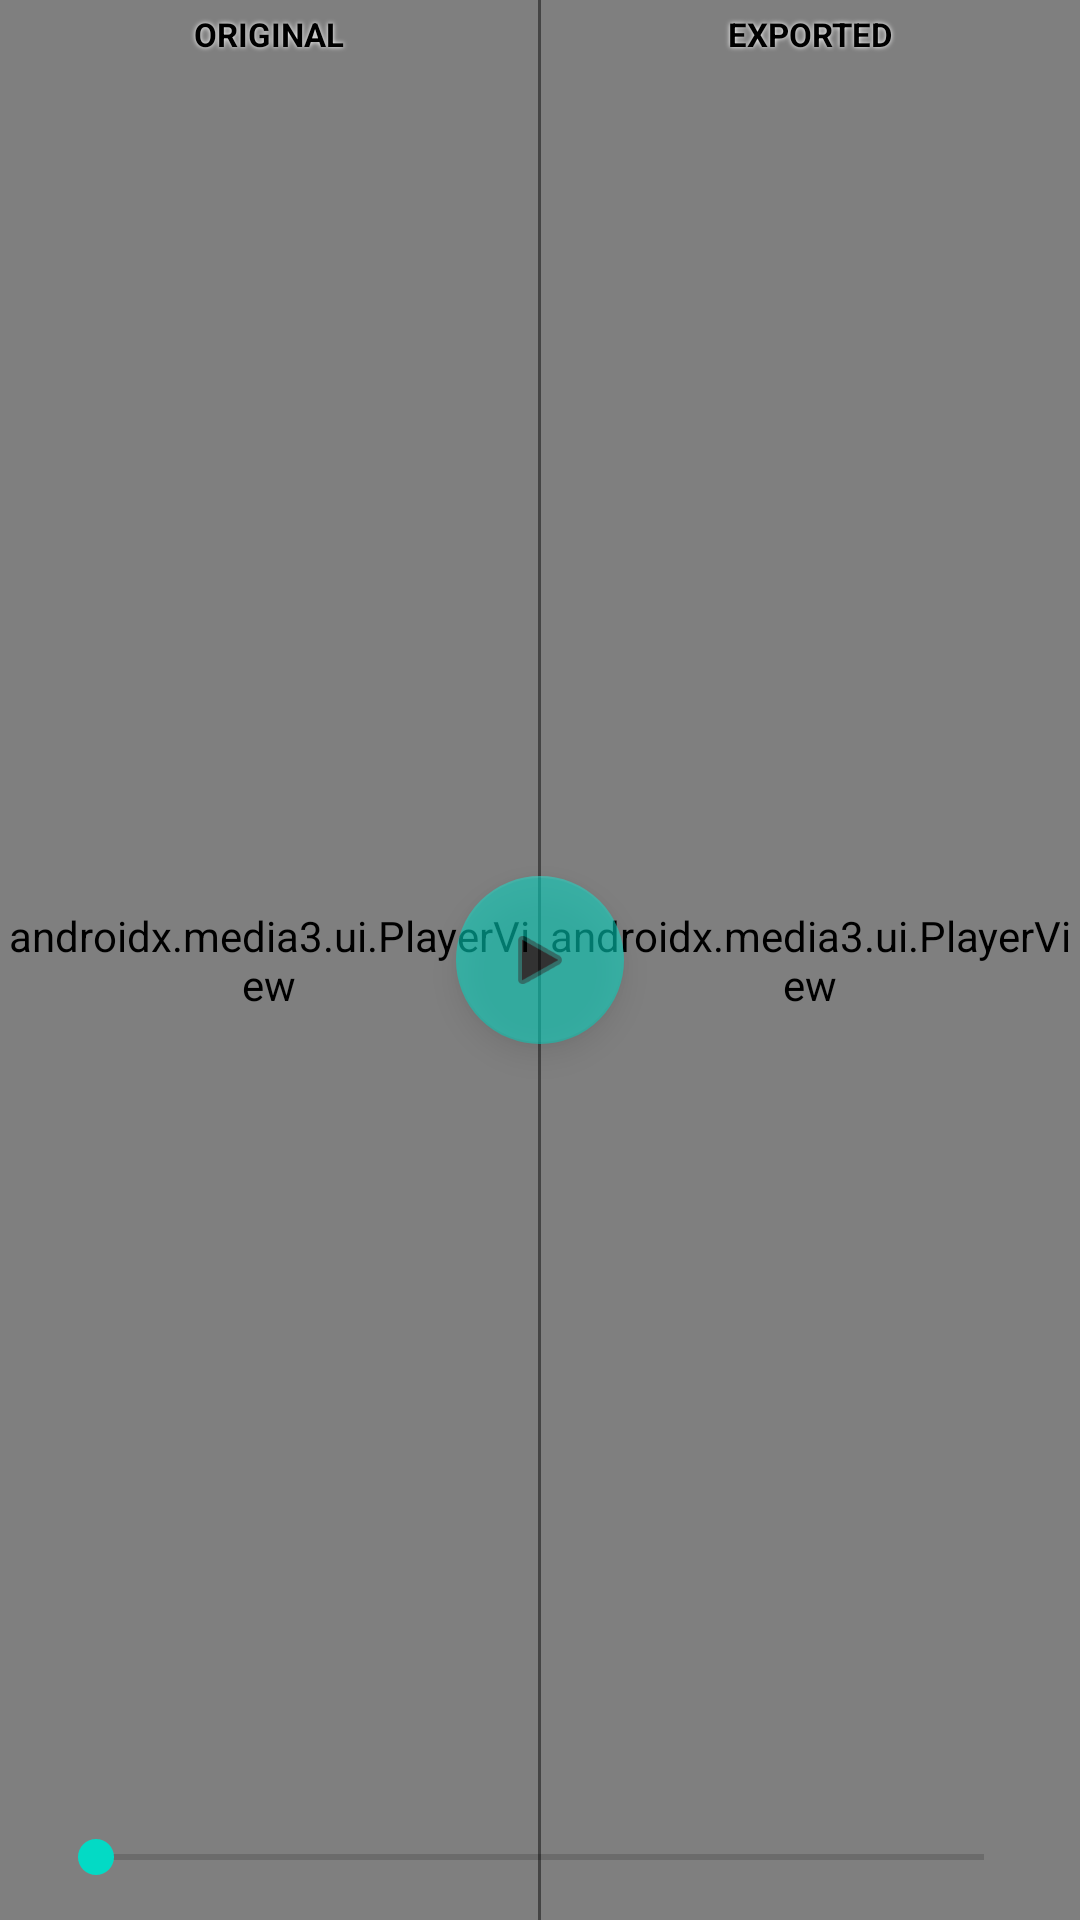

Where to tap for icons on this 1080w x 1920h app screen, as point (x, y):
Play / Pause: point (540, 960)
